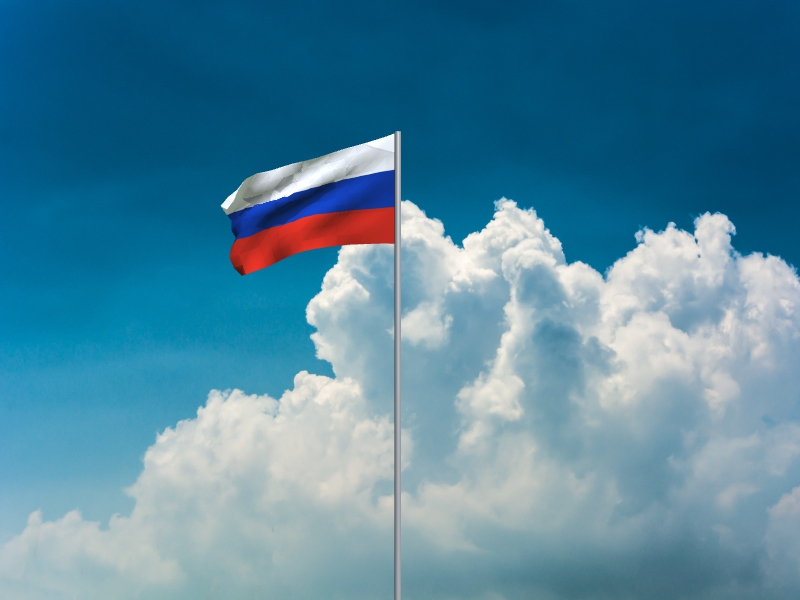ru: (221, 135, 395, 277)
